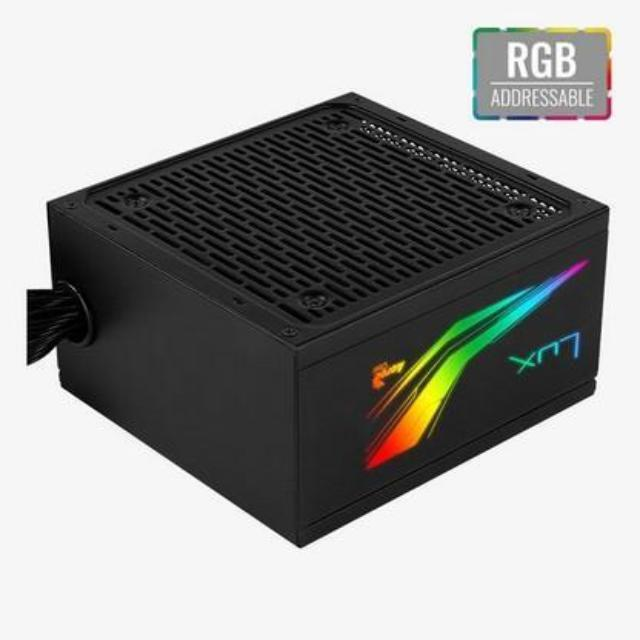PSU: (21, 80, 636, 552)
